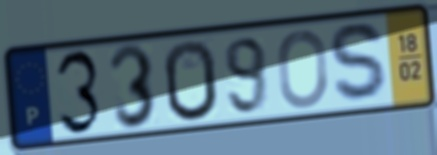3: (49, 47, 104, 138), (108, 42, 159, 132)
9: (222, 35, 272, 115)
O: (161, 37, 221, 124), (276, 27, 331, 111)
S: (326, 20, 393, 107)
